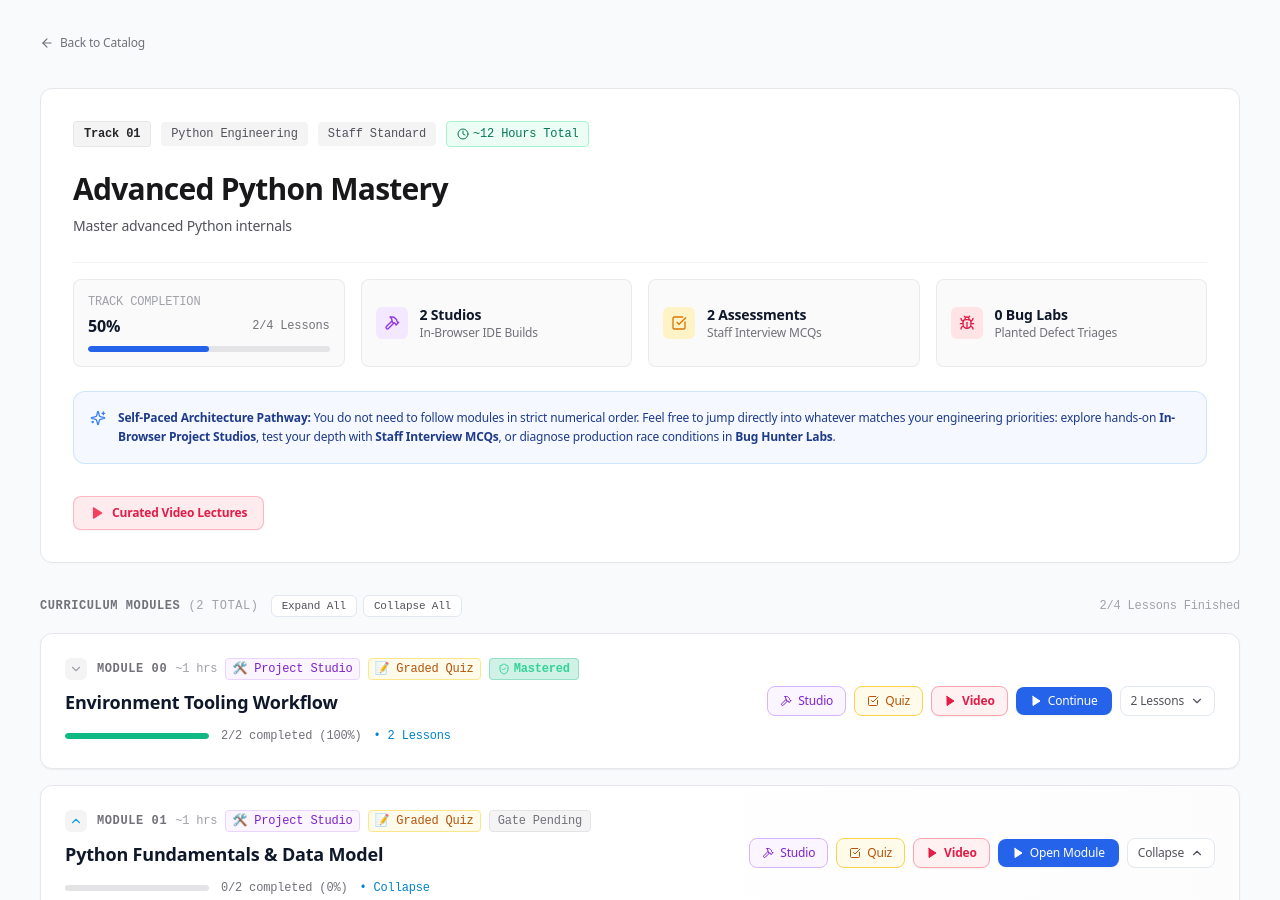
Scenario: SyllabusView Collapsible Module Cards › toggles a module open and closed on click
Click on Module 00 header to expand it
Click the heading "Environment Tooling Workflow": x=201, y=702 [65,690,338,714]
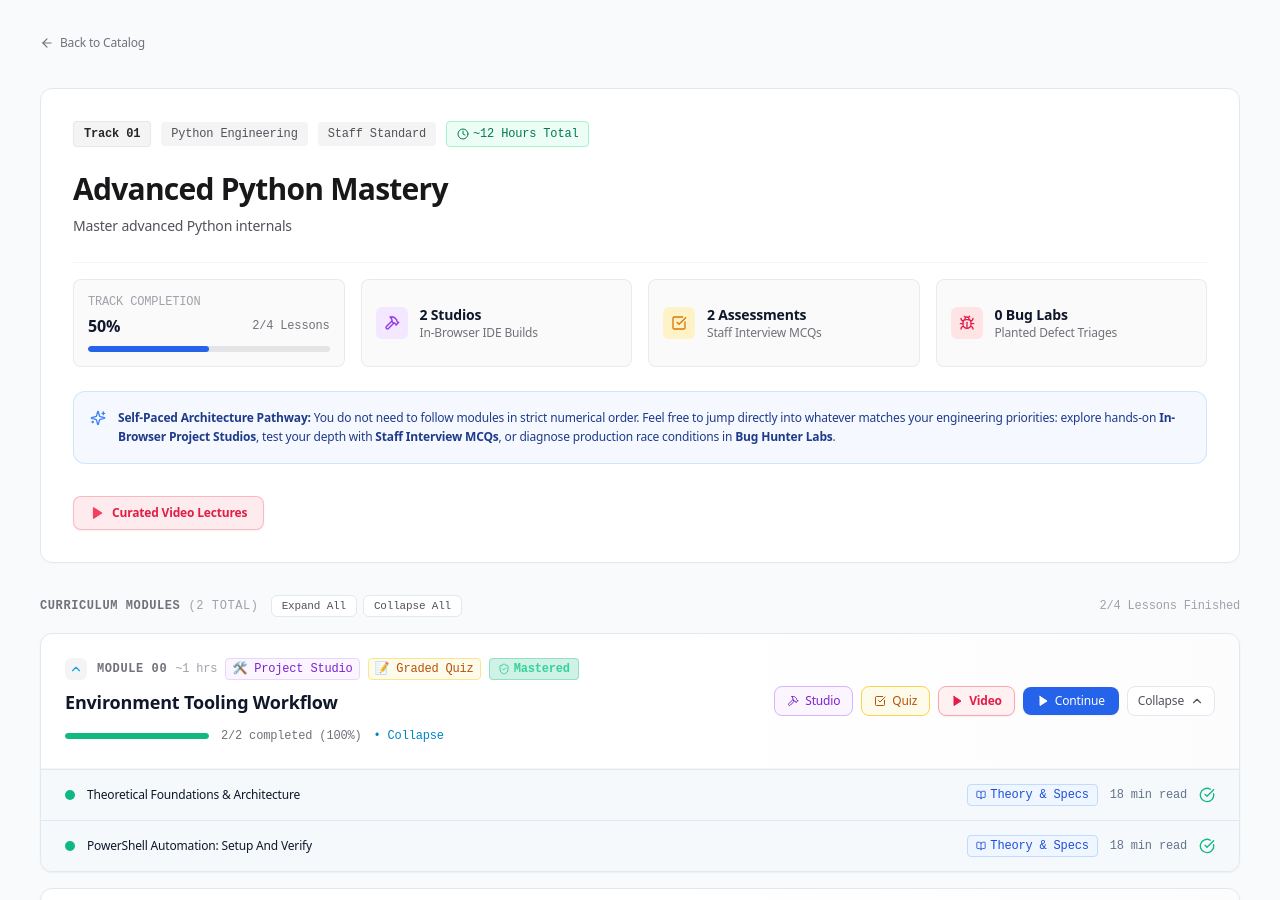
Now the text "Theoretical Foundations & Architecture" is shown, box [87,787,300,803]
Click again to collapse
Click the heading "Environment Tooling Workflow": x=201, y=702 [65,690,338,714]
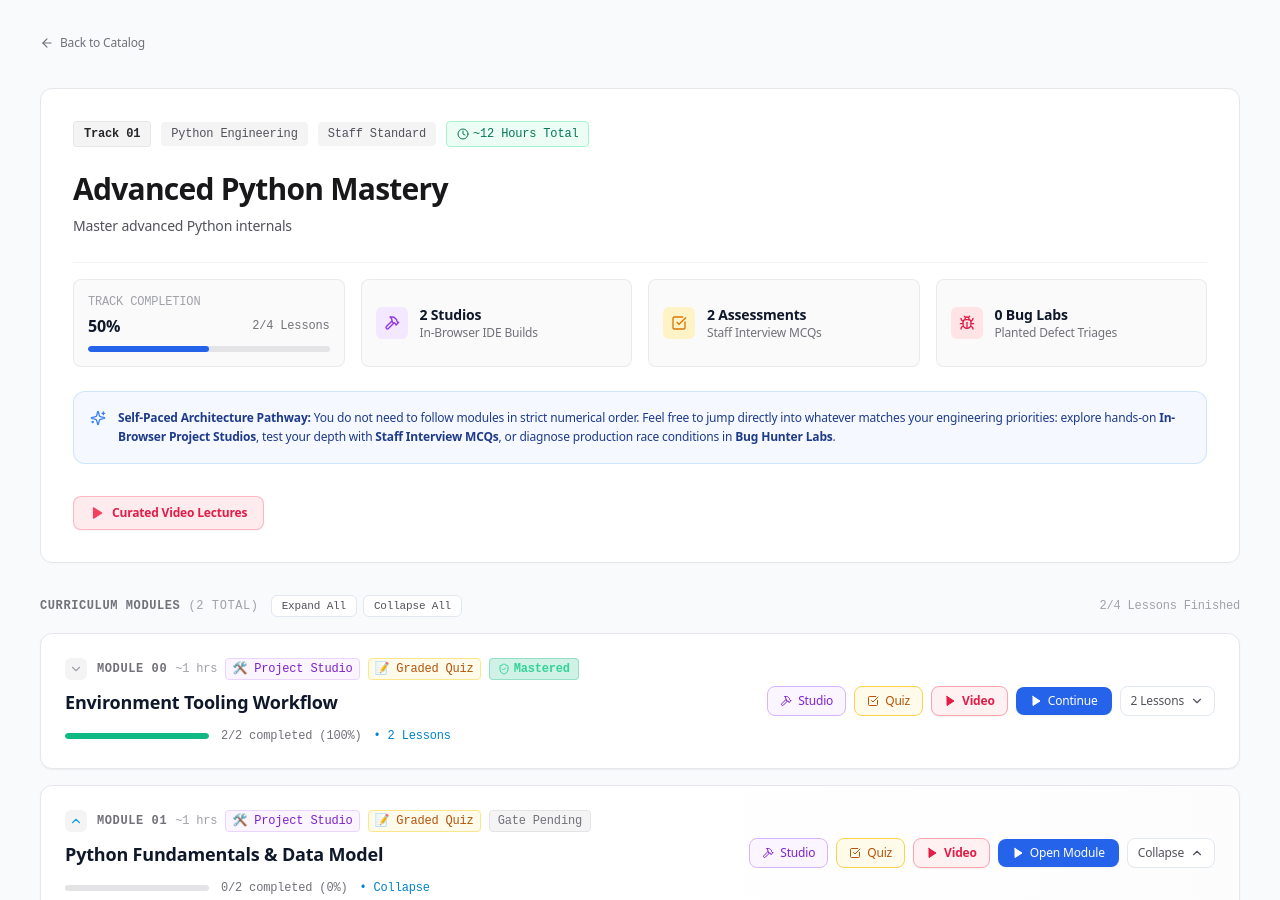
Now the text "Theoretical Foundations & Architecture" is gone
